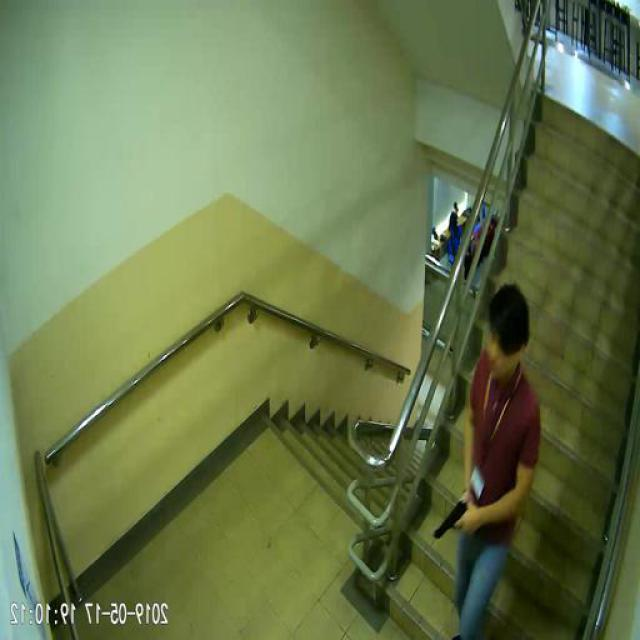Gun: (436, 496, 470, 539)
